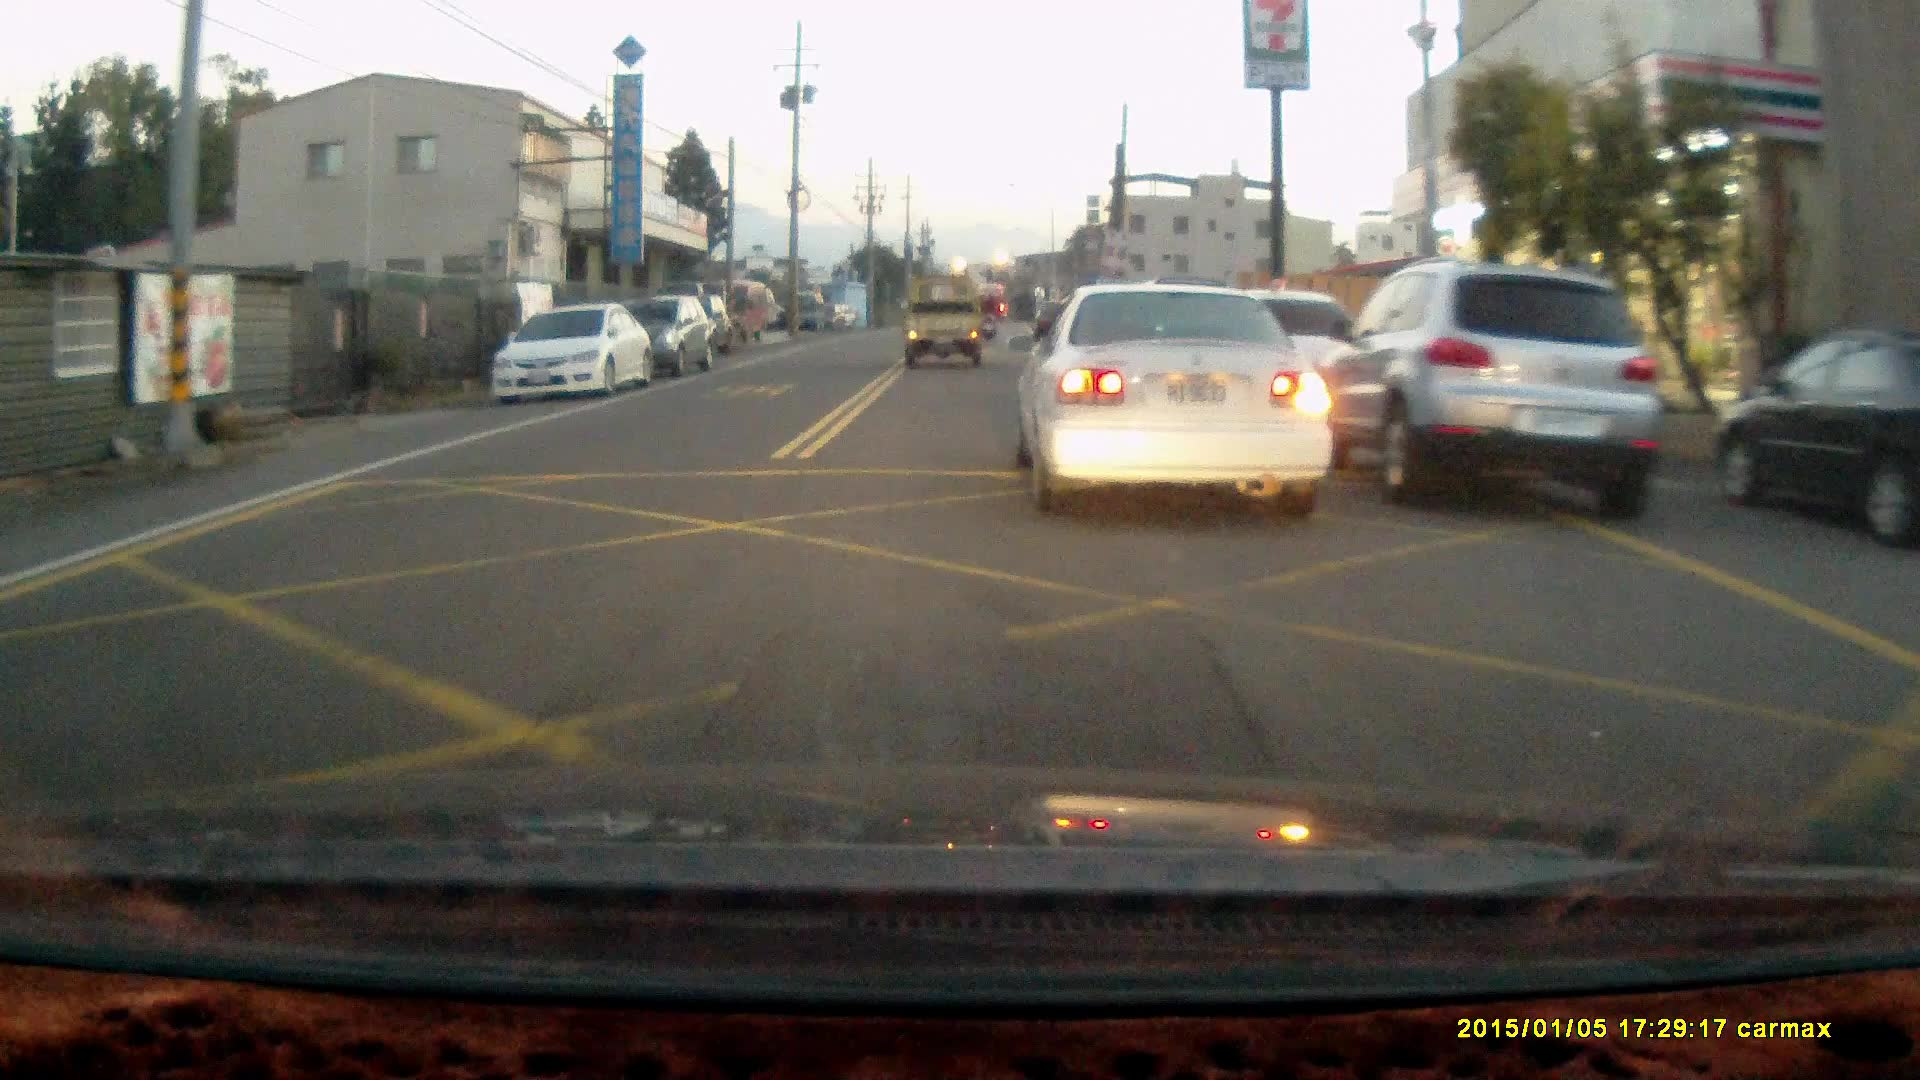rider: (976, 289, 1002, 338)
vehicle: (1306, 263, 1671, 520), (1015, 277, 1334, 506), (1715, 324, 1919, 534), (490, 296, 655, 404), (900, 273, 987, 365), (616, 295, 713, 377)
